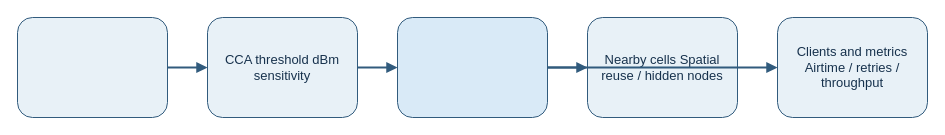
The diagram is 945 pixels wide and 135 high, and some of its shapes have lost their labels. Each missing label, with the centre of its shape:
FortiAP radio Busy: defer Idle: transmit: (472,67)
Neighboring RF energy Weak or strong signal: (92,67)
